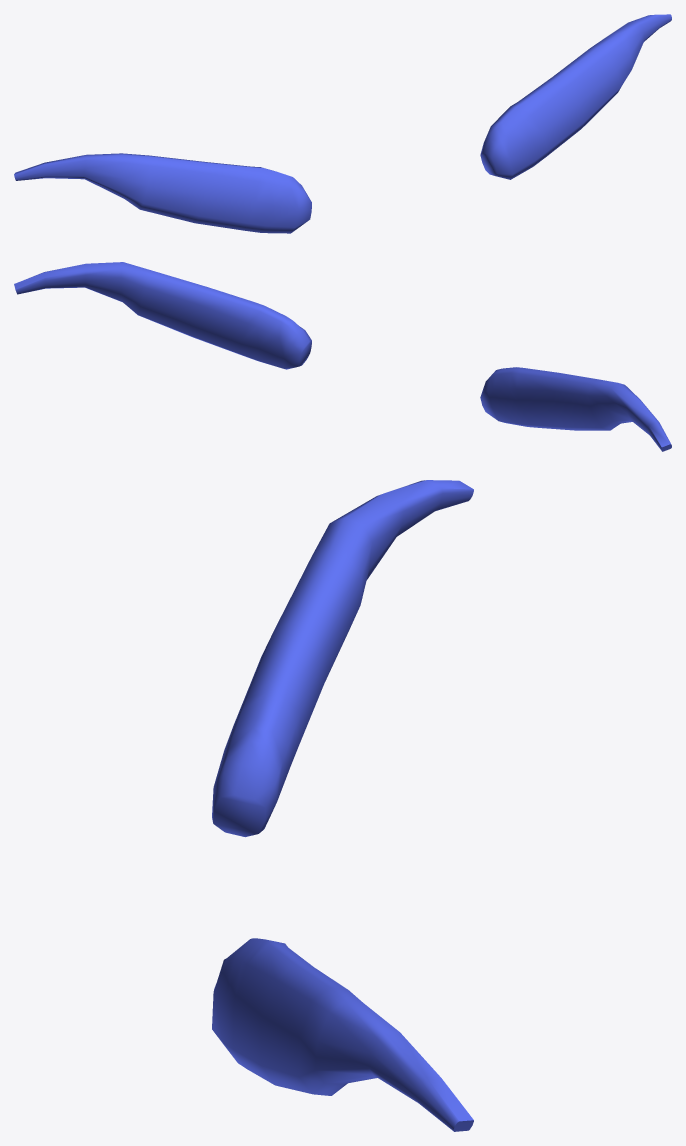
The model's file is Eyebrows_03_03.fbx.
3 views of the same model, one above another, from view 1: azimuth 30°, elevation 25°; view 2: azimuth 150°, elevation 25°; view 3: azimuth 270°, elevation 25° (orthographic). The views are drawn at different scales.
Parts seen in each view (by area): view 1: Eyebrows_03_03; view 2: Eyebrows_03_03; view 3: Eyebrows_03_03.
Boxes of the visible parts, bbox=[...] form: Eyebrows_03_03: bbox=[14, 14, 671, 233]; Eyebrows_03_03: bbox=[14, 262, 671, 451]; Eyebrows_03_03: bbox=[212, 480, 473, 1131].
Bounding box in the file's own units: 18.82 × 2.52 × 3.25.
